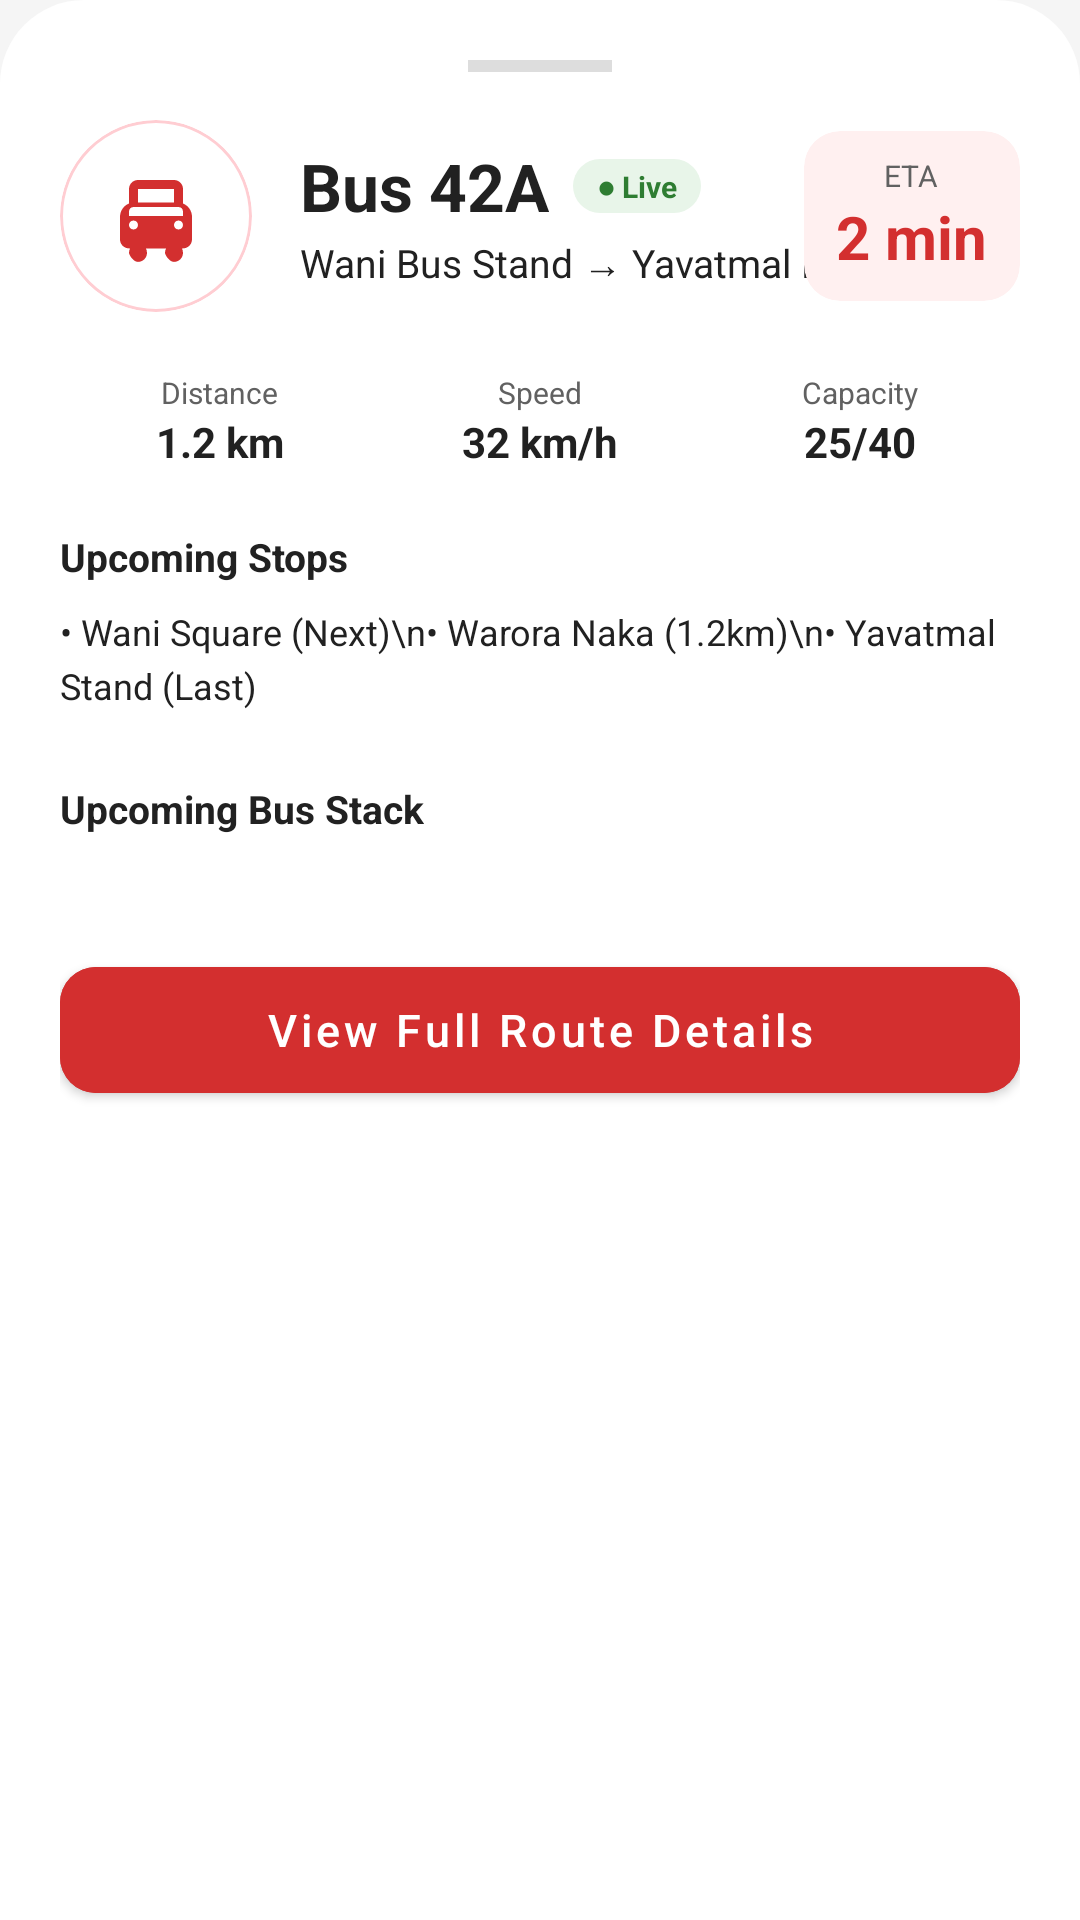

Icons on this 1080x1920 Android screen, each with its box as BBox(x1, y1, x2, y2):
bus front: BBox(60, 120, 252, 312)
